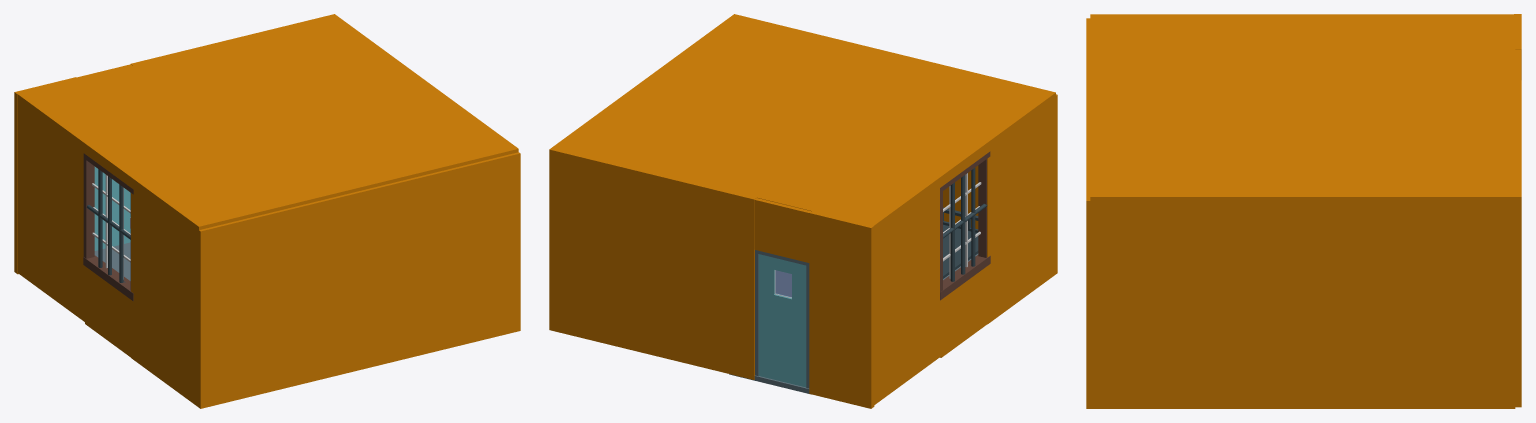
3 renders of one model, left to right at view 1: azimuth 30°, elevation 25°; view 2: azimuth 150°, elevation 25°; view 3: azimuth 270°, elevation 25°, orthographic. The views are drawn at different scales.
Parts seen in each view (by area): view 1: node_MeshObject1365815296-PolyPaper17, node_MeshObject-1212914688-PolyPaper17; view 2: node_MeshObject1365815296-PolyPaper17, node_MeshObject-1212914688-PolyPaper17; view 3: node_MeshObject1365815296-PolyPaper17.
Part boxes in pixels (left/top/right/bottom): node_MeshObject1365815296-PolyPaper17: left=14, top=14, right=520, bottom=408; node_MeshObject-1212914688-PolyPaper17: left=87, top=166, right=130, bottom=282; node_MeshObject1365815296-PolyPaper17: left=549, top=14, right=1057, bottom=408; node_MeshObject-1212914688-PolyPaper17: left=758, top=168, right=987, bottom=388; node_MeshObject1365815296-PolyPaper17: left=1086, top=14, right=1521, bottom=408.
Size of the model in its own units: 9.78 by 5.28 by 9.83.
